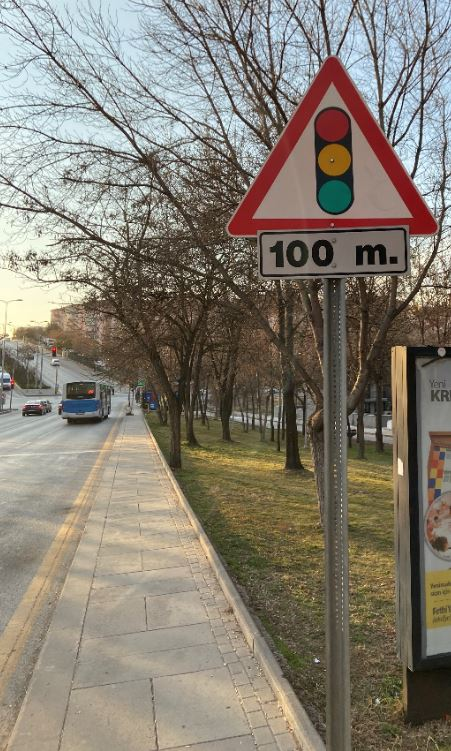Trafikisiklari: (234, 55, 438, 236)
